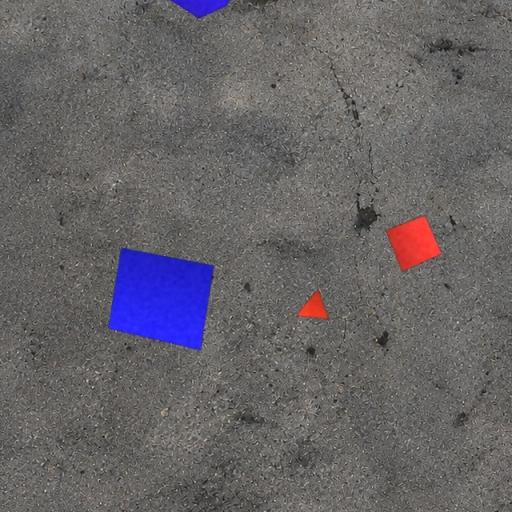BLUE_SQUARE: (108, 248, 214, 350)
RED_SQUARE: (386, 214, 442, 273)
